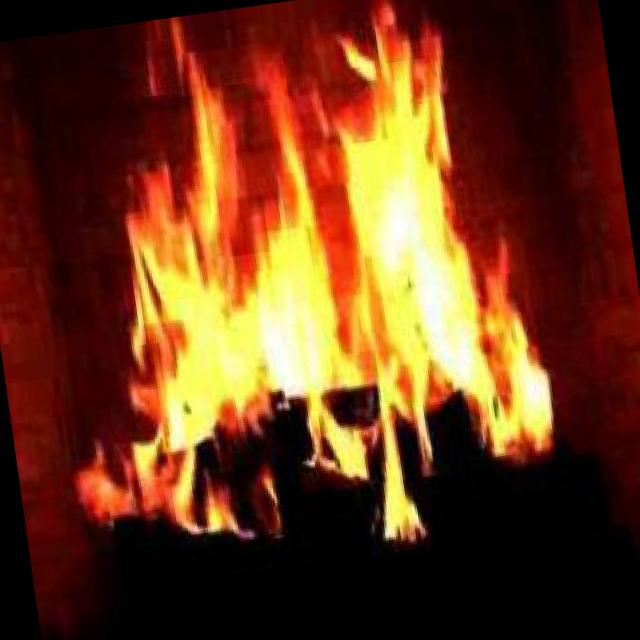Fire: (11, 0, 581, 601)
